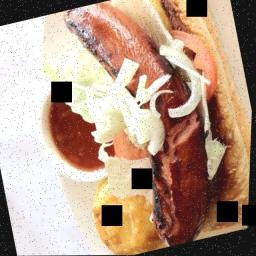hotdog: (132, 109, 238, 249), (92, 0, 161, 88), (65, 1, 123, 82), (63, 8, 83, 42)
